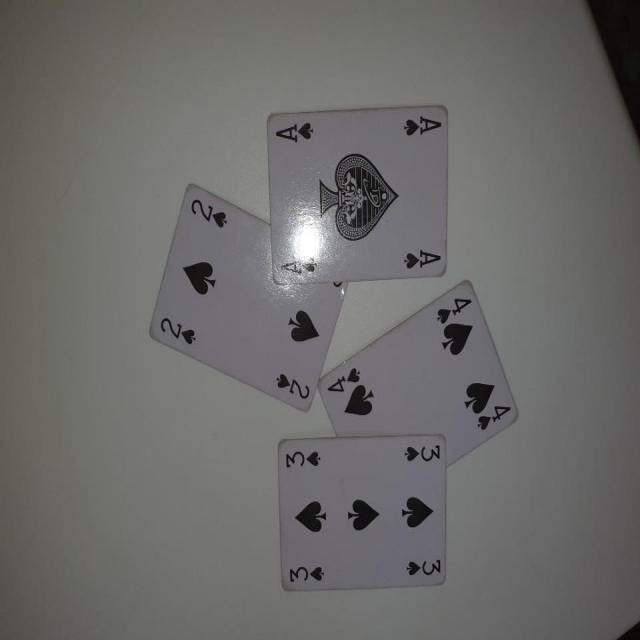2 Spades: (160, 194, 350, 410)
3 Spades: (274, 432, 450, 592)
4 Spades: (317, 288, 524, 484)
A Spades: (266, 103, 452, 284)
